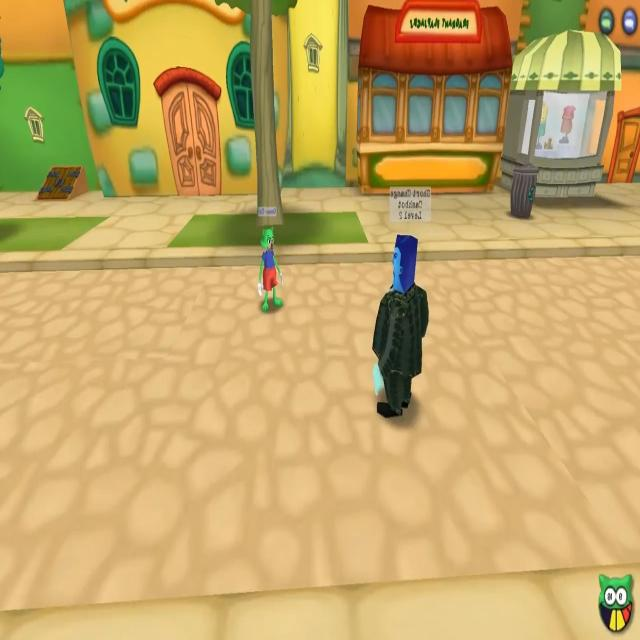shortchange: (366, 184, 434, 418)
